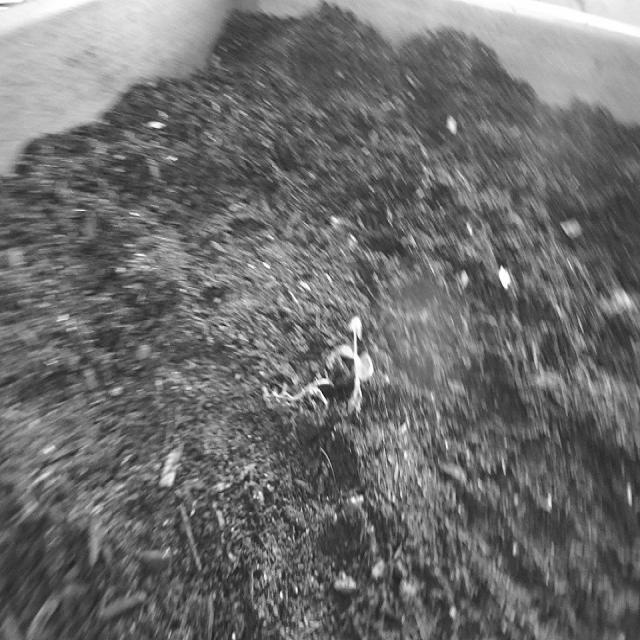Healthy: (329, 307, 379, 422)
